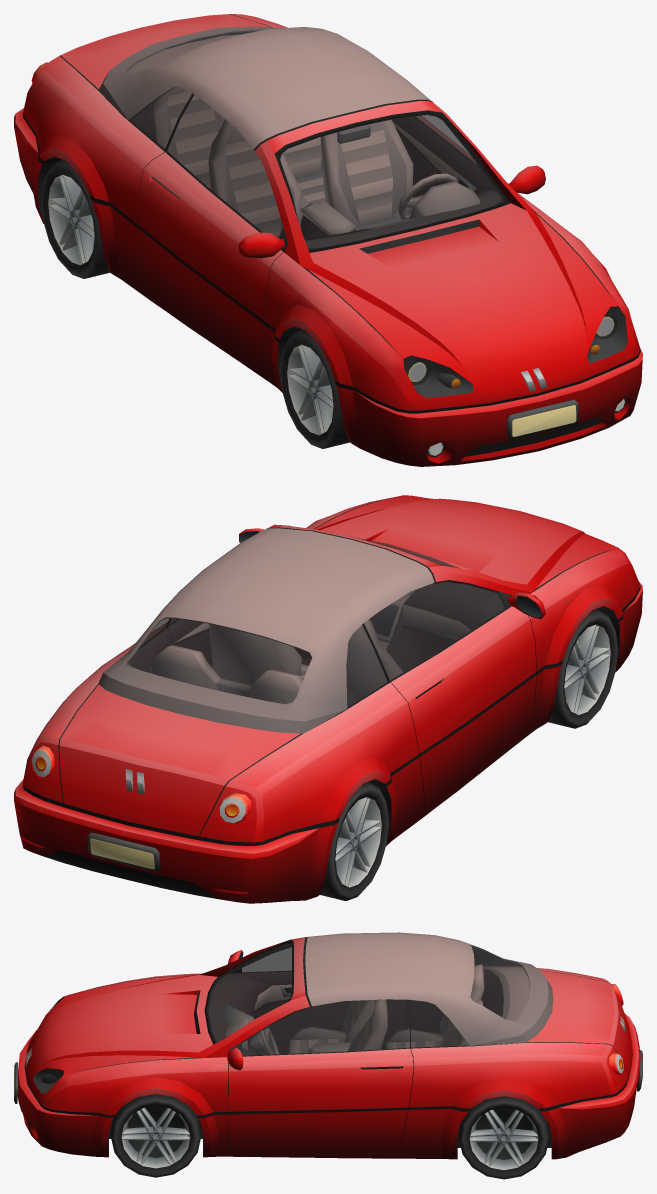
Rendered from TSP_Sportscar_01A.fbx.
3 views of the same model, one above another, from view 1: azimuth 30°, elevation 25°; view 2: azimuth 150°, elevation 25°; view 3: azimuth 270°, elevation 25° (orthographic). The views are drawn at different scales.
Parts seen in each view (by area): view 1: TSP_Sportscar_01A_Body, TSP_Sportscar_01A_Roof, TSP_Sportscar_01A_Door.R, TSP_Sportscar_01A_Door_Window.R, TSP_Sportscar_01A_Wheel_F.R, TSP_Sportscar_01A_Wheel_R.R, TSP_Sportscar_01A_Door.L, TSP_Sportscar_01A_Windows, TSP_Sportscar_01A_Steering_Wheel, TSP_Sportscar_01A_Door_Window.L; view 2: TSP_Sportscar_01A_Body, TSP_Sportscar_01A_Roof, TSP_Sportscar_01A_Door.R, TSP_Sportscar_01A_Door_Window.R, TSP_Sportscar_01A_Wheel_F.R, TSP_Sportscar_01A_Wheel_R.R, TSP_Sportscar_01A_Windows, TSP_Sportscar_01A_Door.L, TSP_Sportscar_01A_Taillights; view 3: TSP_Sportscar_01A_Body, TSP_Sportscar_01A_Door.L, TSP_Sportscar_01A_Roof, TSP_Sportscar_01A_Door_Window.L, TSP_Sportscar_01A_Wheel_F.L, TSP_Sportscar_01A_Wheel_R.L, TSP_Sportscar_01A_Door.R, TSP_Sportscar_01A_Windows, TSP_Sportscar_01A_Door_Window.R, TSP_Sportscar_01A_Steering_Wheel.
Boxes of the visible parts, bbox=[...] form: TSP_Sportscar_01A_Body: bbox=[14, 14, 642, 466]; TSP_Sportscar_01A_Roof: bbox=[98, 26, 432, 150]; TSP_Sportscar_01A_Door.R: bbox=[138, 152, 287, 382]; TSP_Sportscar_01A_Door_Window.R: bbox=[165, 94, 283, 237]; TSP_Sportscar_01A_Wheel_F.R: bbox=[280, 329, 349, 448]; TSP_Sportscar_01A_Wheel_R.R: bbox=[41, 160, 109, 278]; TSP_Sportscar_01A_Door.L: bbox=[392, 116, 545, 198]; TSP_Sportscar_01A_Windows: bbox=[129, 87, 193, 151]; TSP_Sportscar_01A_Steering_Wheel: bbox=[397, 173, 457, 219]; TSP_Sportscar_01A_Door_Window.L: bbox=[415, 115, 478, 166]; TSP_Sportscar_01A_Body: bbox=[14, 495, 642, 903]; TSP_Sportscar_01A_Roof: bbox=[98, 527, 435, 733]; TSP_Sportscar_01A_Door.R: bbox=[390, 591, 545, 815]; TSP_Sportscar_01A_Door_Window.R: bbox=[364, 581, 506, 681]; TSP_Sportscar_01A_Wheel_F.R: bbox=[548, 609, 617, 728]; TSP_Sportscar_01A_Wheel_R.R: bbox=[320, 782, 388, 900]; TSP_Sportscar_01A_Windows: bbox=[140, 618, 390, 708]; TSP_Sportscar_01A_Door.L: bbox=[153, 528, 263, 668]; TSP_Sportscar_01A_Taillights: bbox=[32, 750, 245, 823]; TSP_Sportscar_01A_Body: bbox=[14, 937, 642, 1159]; TSP_Sportscar_01A_Door.L: bbox=[227, 1042, 413, 1158]; TSP_Sportscar_01A_Roof: bbox=[303, 932, 553, 1045]; TSP_Sportscar_01A_Door_Window.L: bbox=[242, 999, 409, 1055]; TSP_Sportscar_01A_Wheel_F.L: bbox=[111, 1094, 201, 1177]; TSP_Sportscar_01A_Wheel_R.L: bbox=[459, 1096, 549, 1179]; TSP_Sportscar_01A_Door.R: bbox=[228, 950, 407, 1053]; TSP_Sportscar_01A_Windows: bbox=[409, 1000, 469, 1048]; TSP_Sportscar_01A_Door_Window.R: bbox=[242, 947, 291, 972]; TSP_Sportscar_01A_Steering_Wheel: bbox=[250, 1027, 278, 1054].
Bounding box in the file's own units: 2.46 × 1.8 × 5.9.
